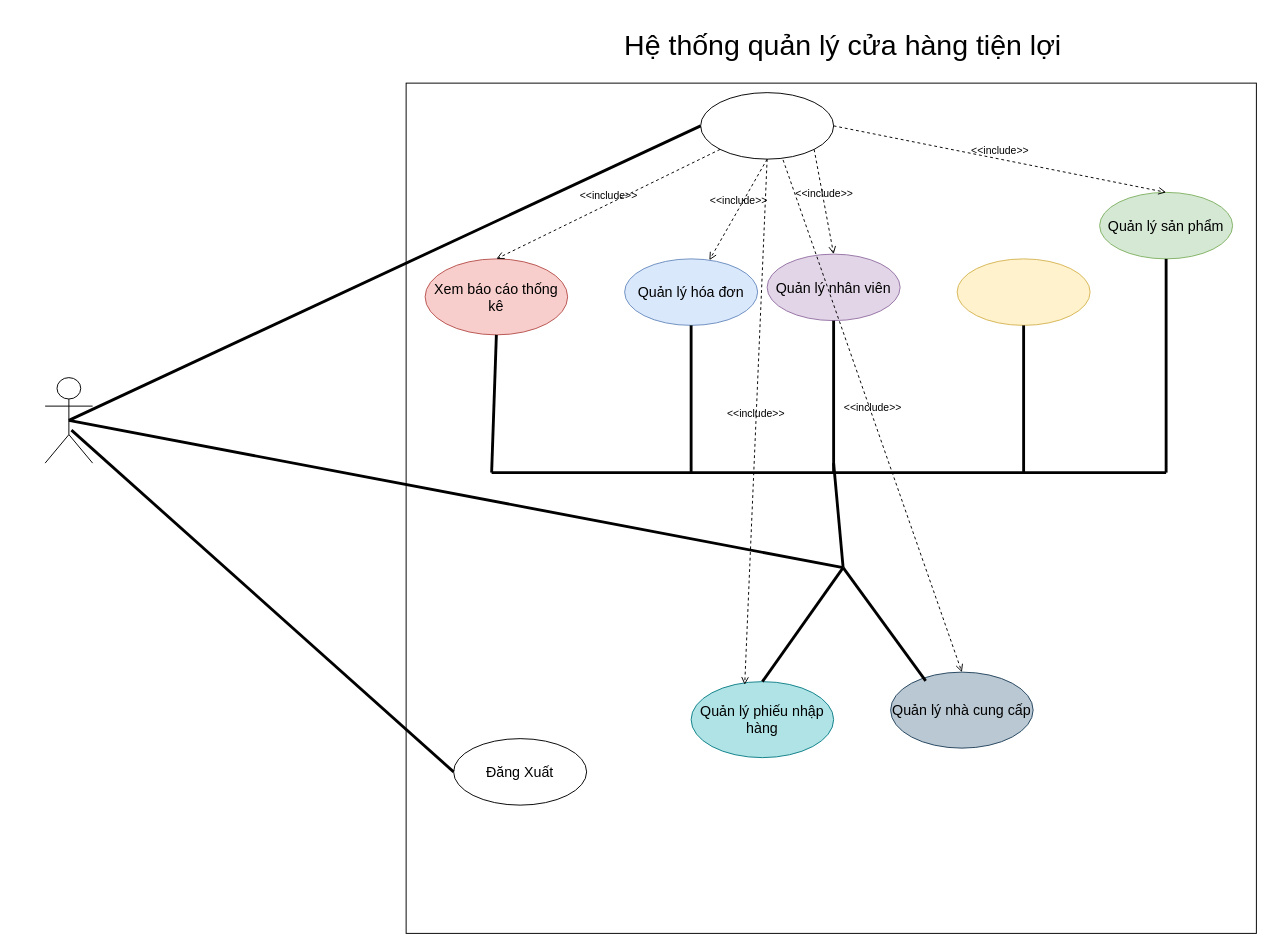
Image size: 1273x950. Some labels were removed from this diagram. The shapes that lost their labels are listed below. From the top down, each one's box as (x1, y1, x2, y2) in pixels, then its label:
(700, 92, 834, 159): Đăng Nhập
(956, 258, 1090, 325): Quản lý khách hàng
(44, 377, 93, 463): Người Dùng
